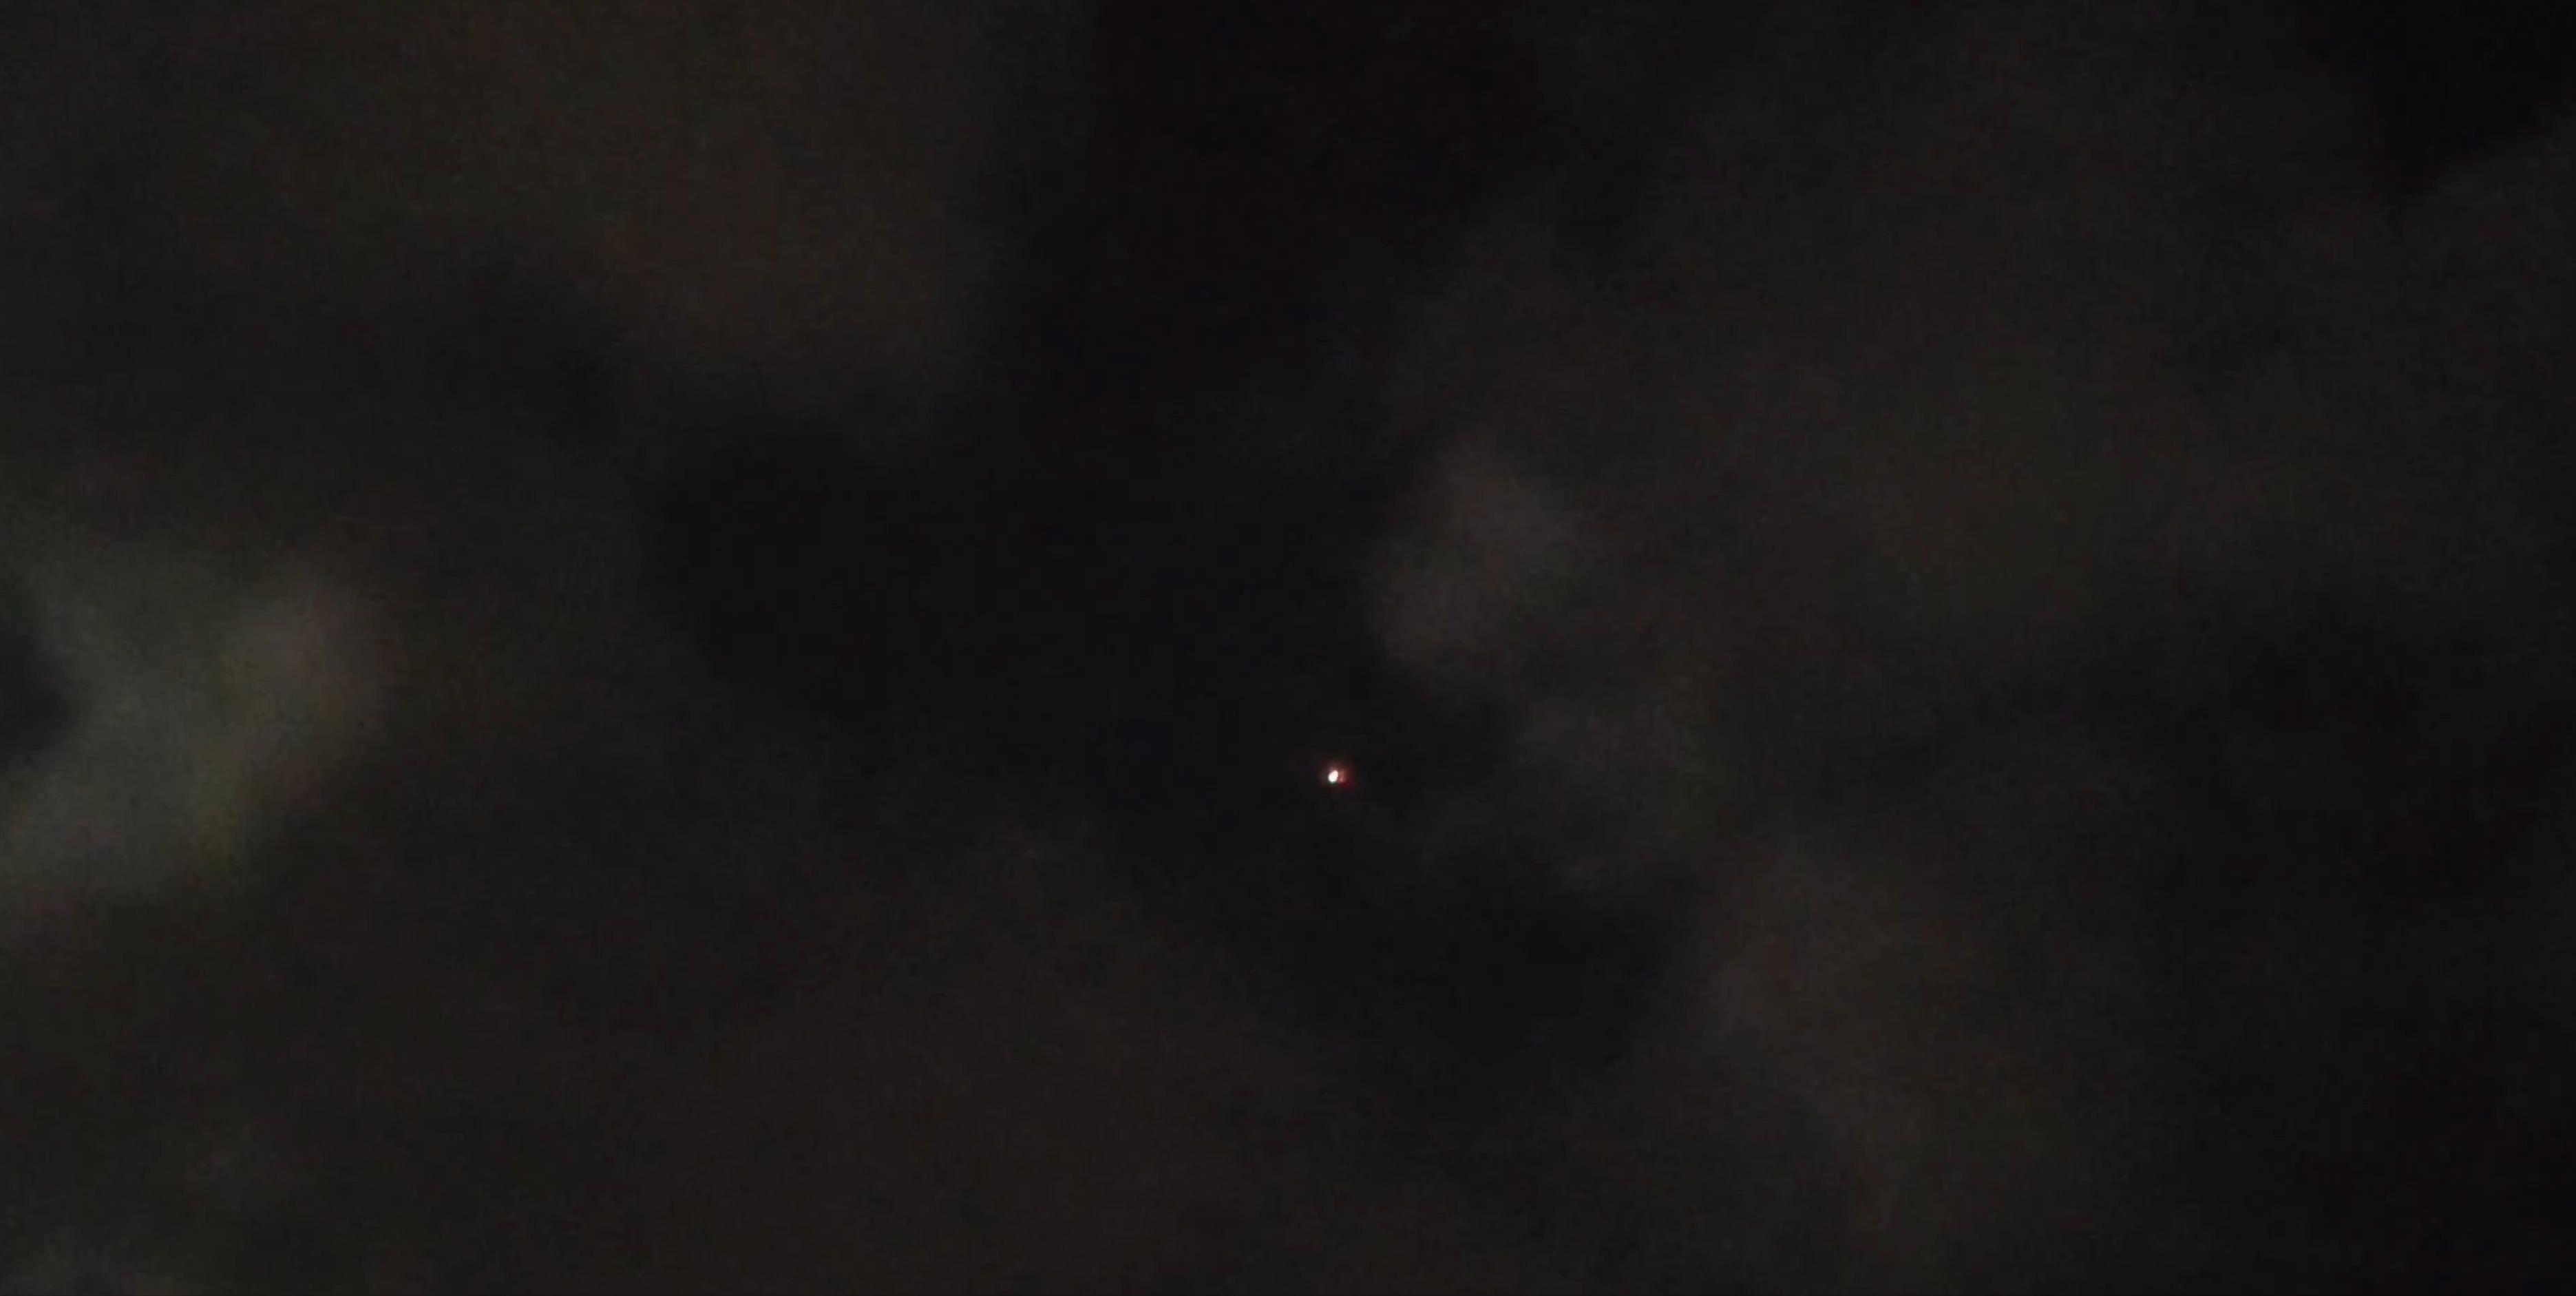Plane: (1295, 746, 1366, 803)
